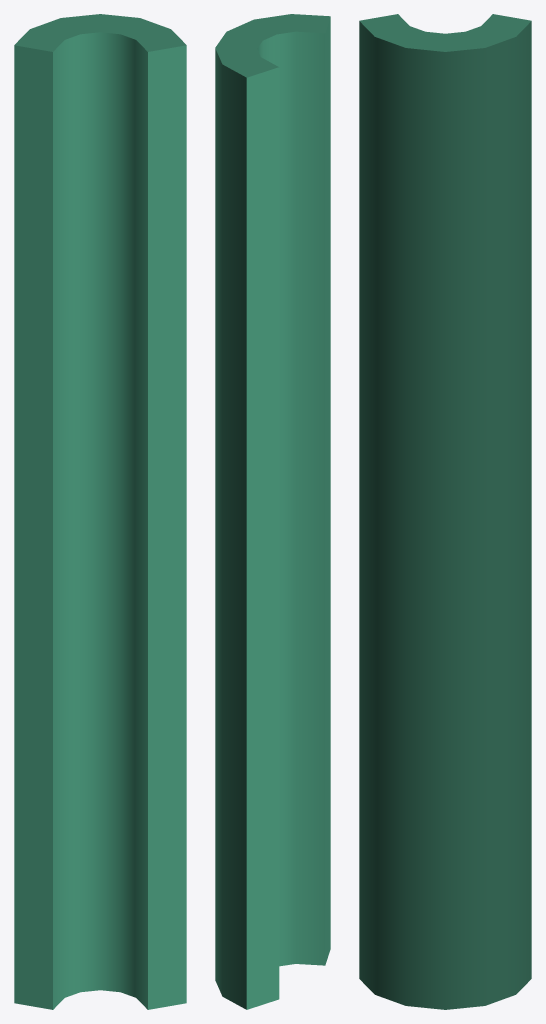
The model's file is celeryStick.obj.
3 views of the same model, side by side, from view 1: azimuth 90°, elevation 25°; view 2: azimuth 150°, elevation 25°; view 3: azimuth 270°, elevation 25° (orthographic). The views are drawn at different scales.
Visible parts, largest first — view 1: celeryStick; view 2: celeryStick; view 3: celeryStick.
Boxes of the visible parts, box(x1,y1,x2,y2) form: celeryStick: box(14, 14, 186, 1009); celeryStick: box(215, 14, 330, 1009); celeryStick: box(359, 14, 531, 1009).
Size of the model in its own units: 0.046 by 0.54 by 0.0882.
